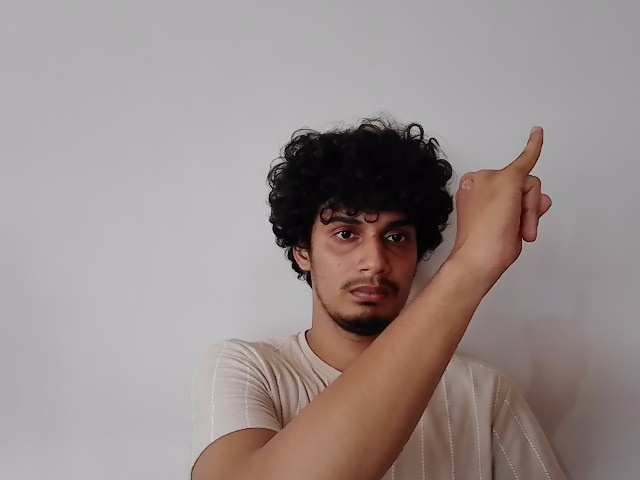bad: (454, 125, 555, 264)
